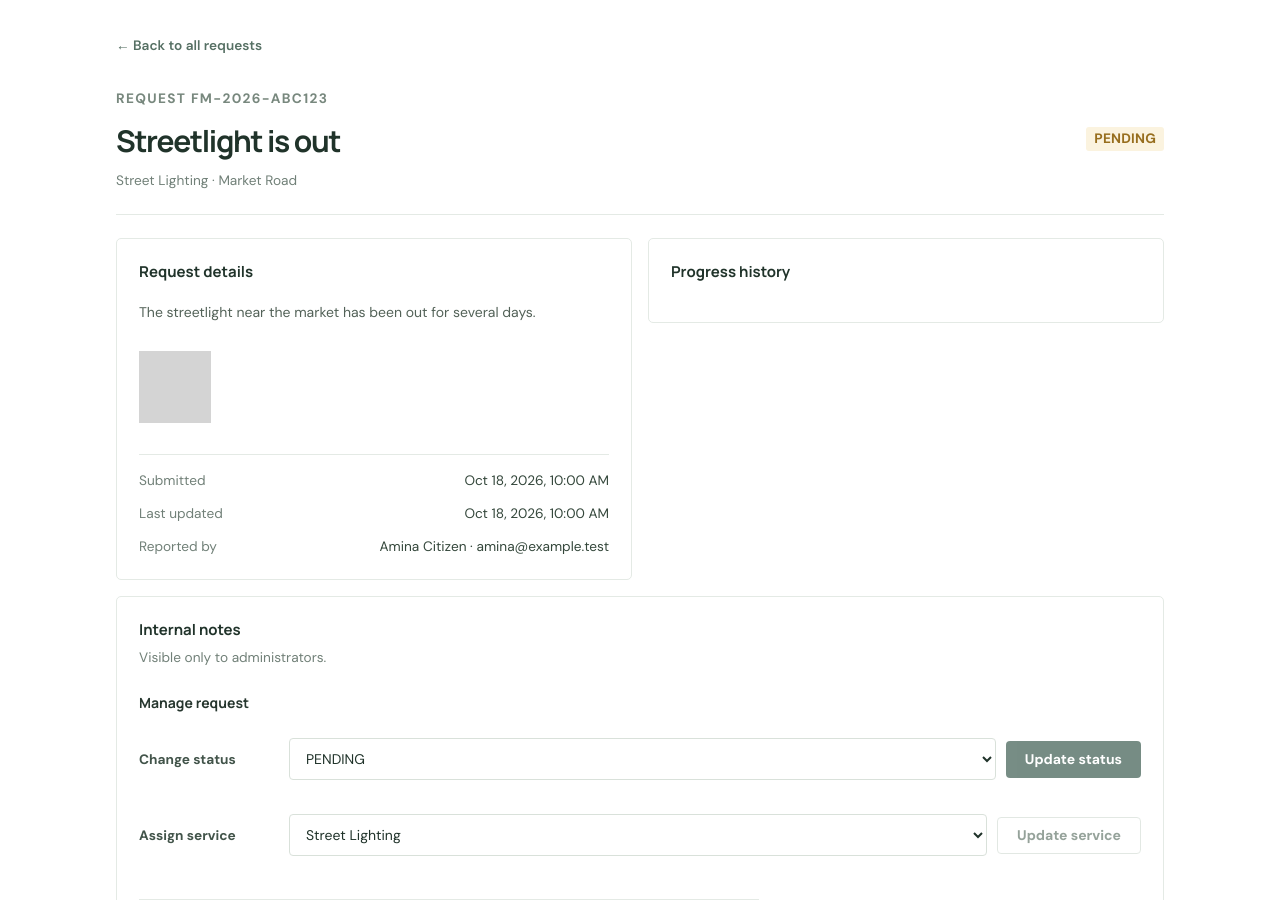
Scenario: administrator request controls › updates the displayed status from the successful API response
This screenshot has width=1280, height=900.
Expected: the heading "Manage request" is shown, [139,693,249,712]
Select "In progress" in the dropdown labelled "Change status" at [642, 759], box [289,738,996,780]
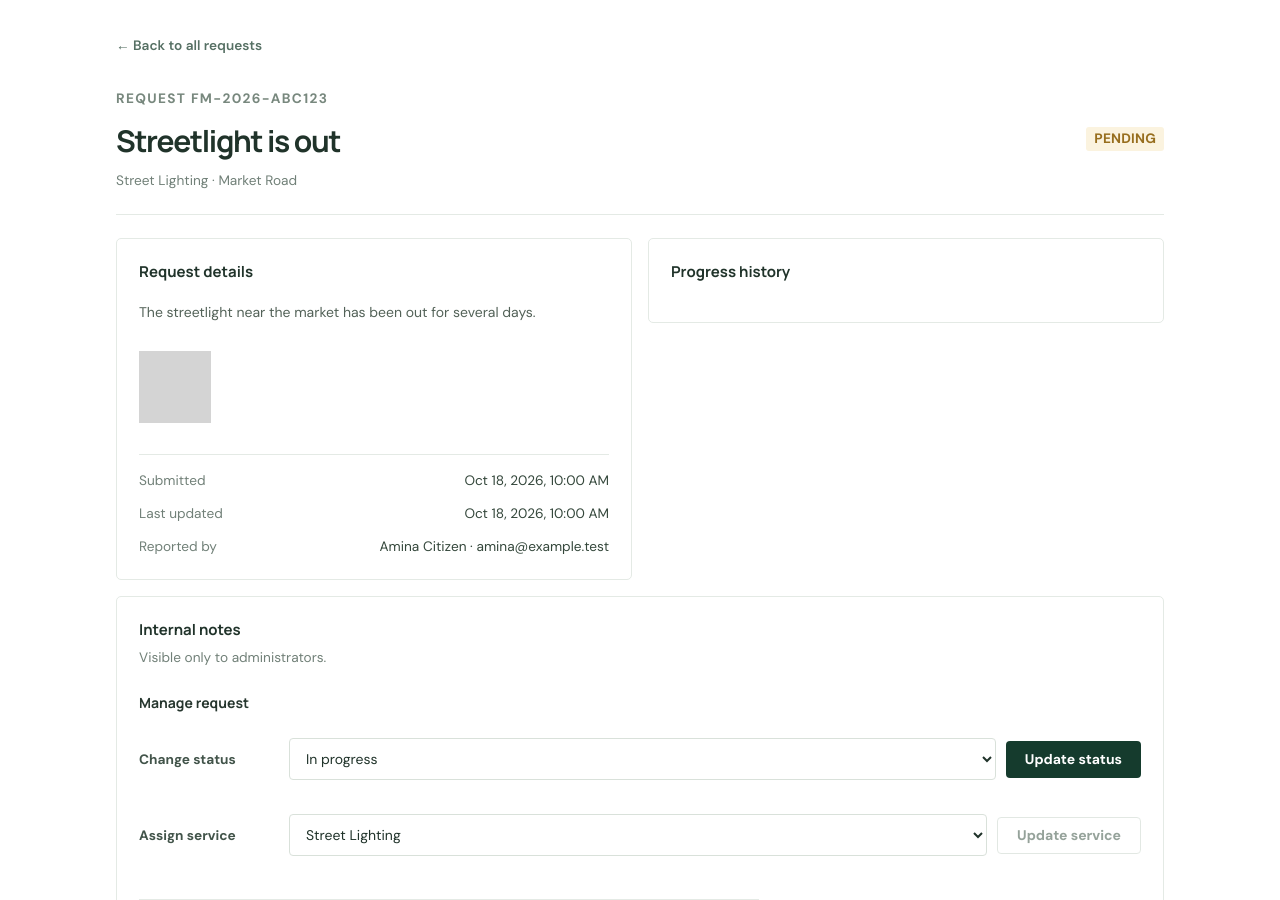
Click the button "Update status".
click(1073, 759)  # box [1006,741,1141,778]
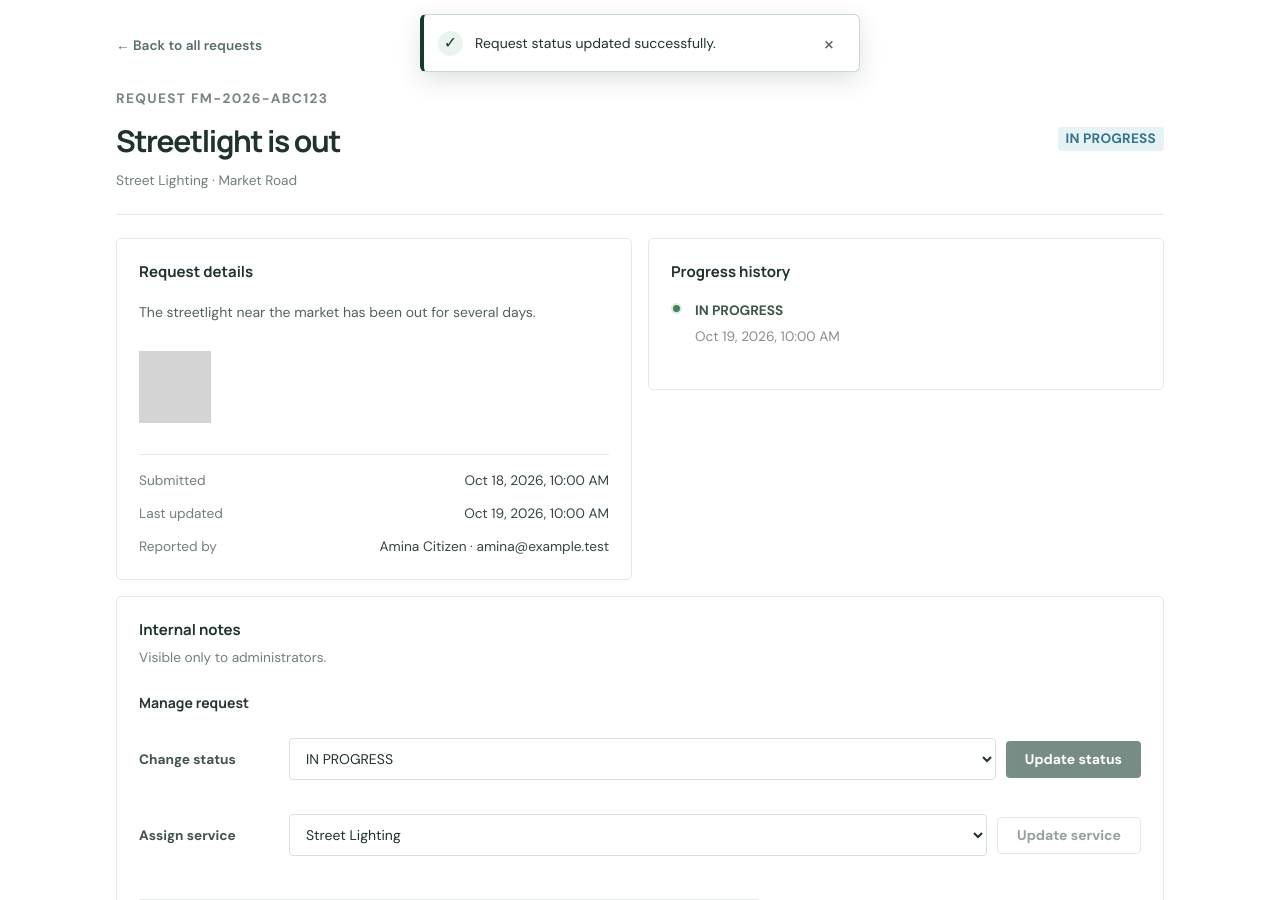
Expected: the message shows "Request status updated successfully.", [475,34,716,52]
Expected: the text with class "status" reads "IN PROGRESS", [1066,129,1156,147]
Expected: the text "IN PROGRESS" below "Progress history" is shown, [695,301,783,319]
